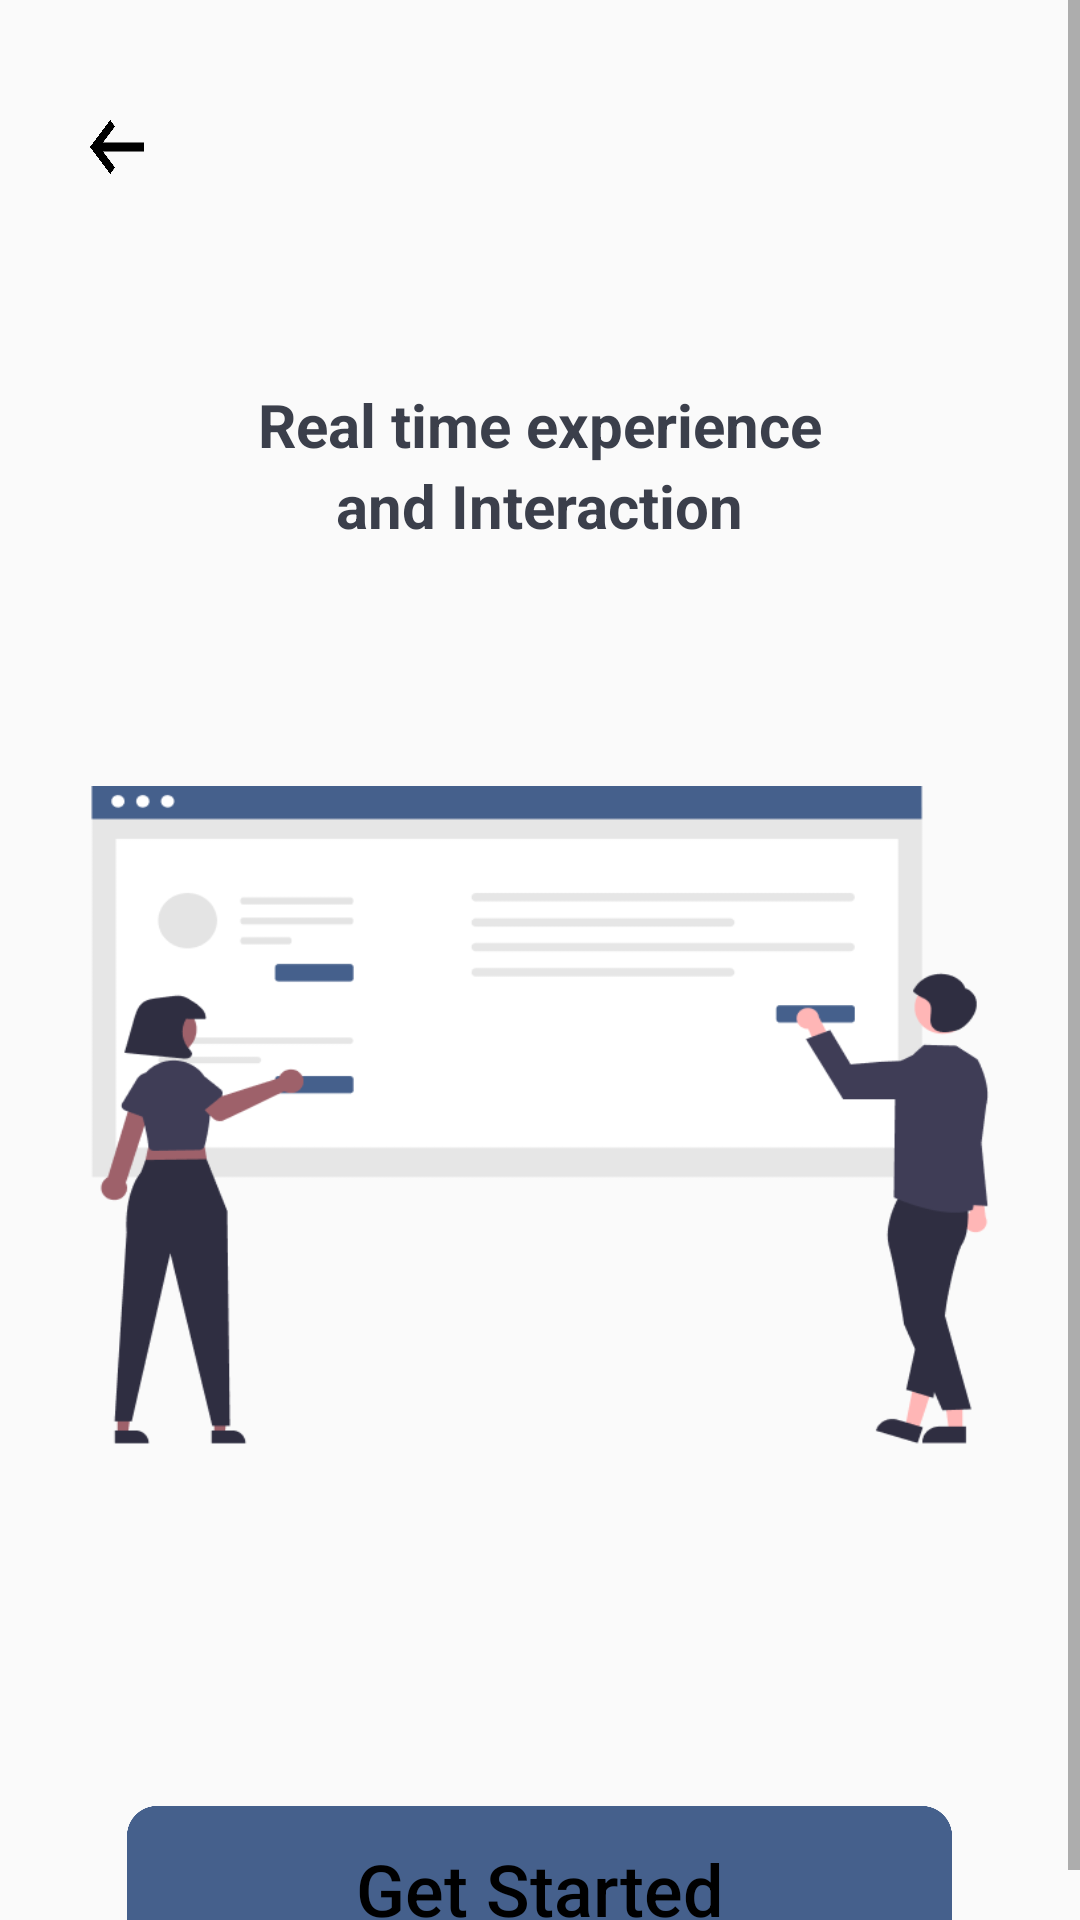

Icon bounding boxes for this 1080*1920 phone screenshot, format (x1, y1, x2, y2):
keyboard backspace: (90, 120, 144, 174)
